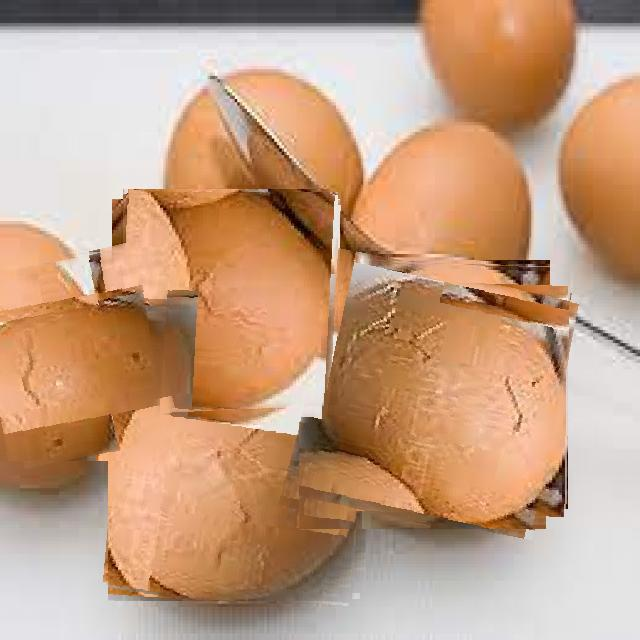biodegradable: (299, 259, 570, 529), (108, 341, 368, 601), (115, 192, 338, 415), (0, 248, 170, 461)
